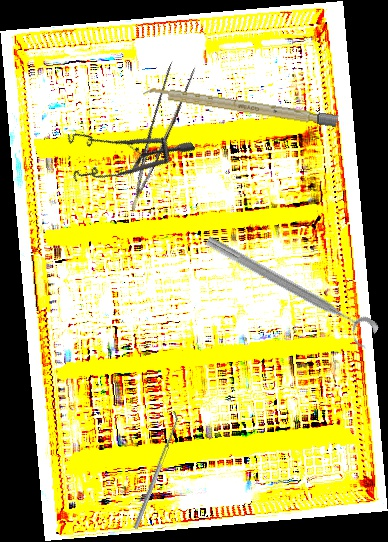Fixation Ring: (197, 231, 381, 352)
Scalpel Handle: (142, 84, 339, 128)
Spatula Surgical: (129, 410, 182, 530)
Speculum: (52, 80, 196, 214)
Tissue Forceps: (107, 54, 202, 211)
